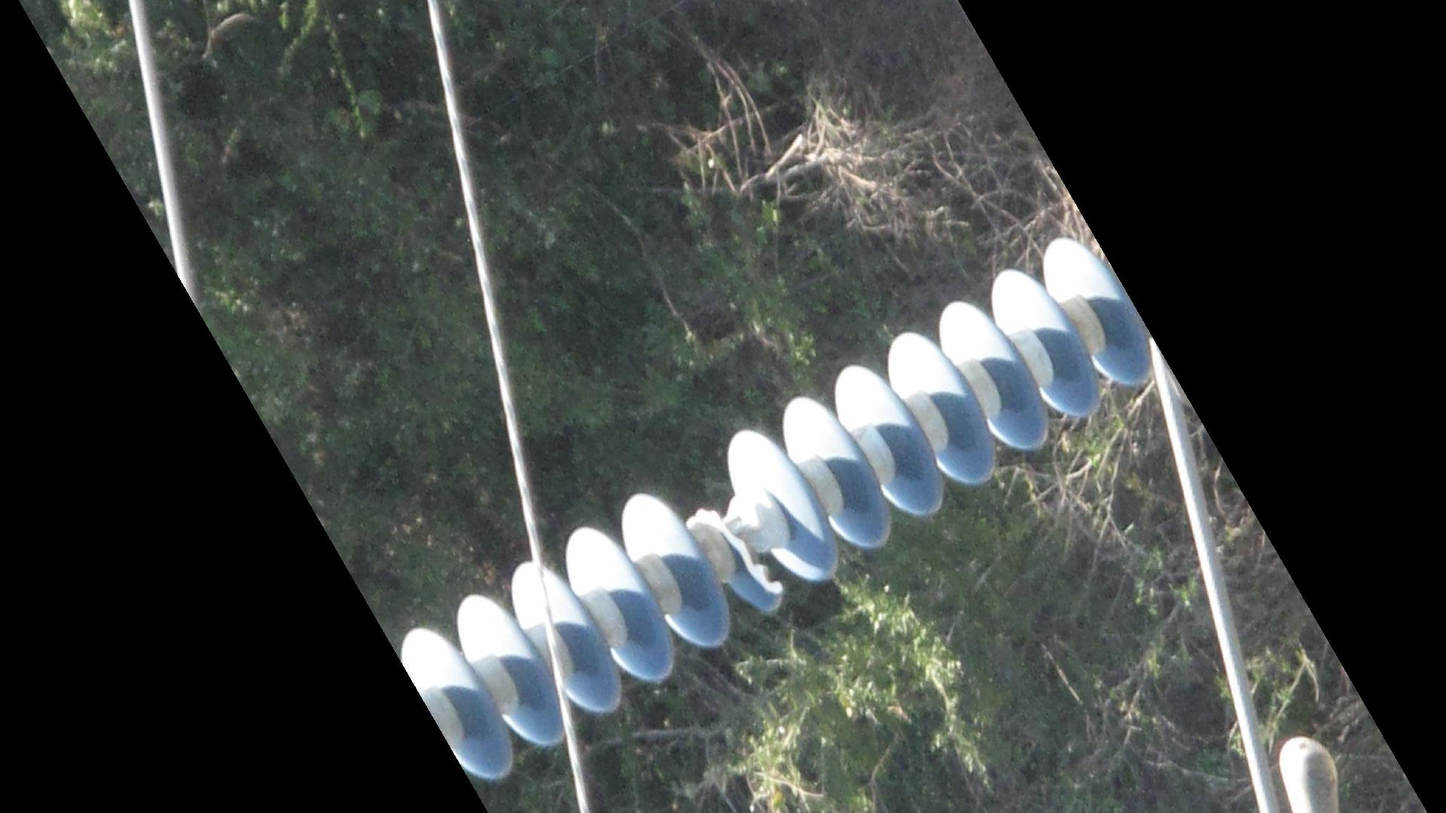insulator: (402, 231, 1160, 787)
insulator_breakage: (683, 498, 791, 604)
